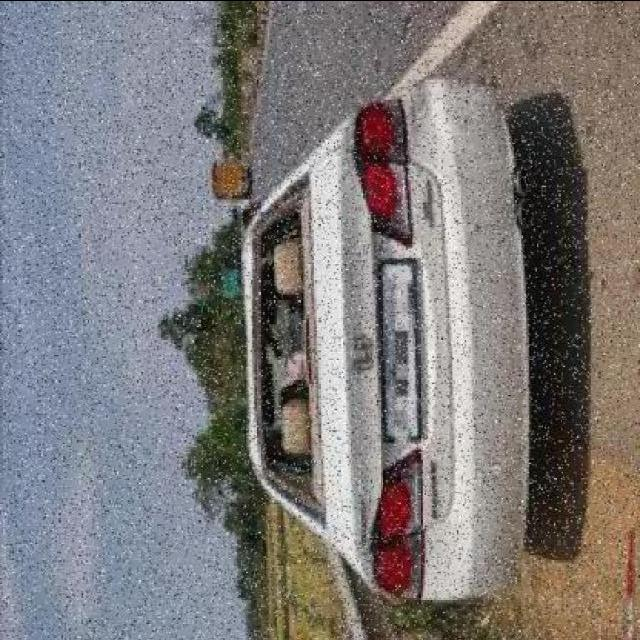Rear-windscreen-Damage: (242, 174, 329, 524)
